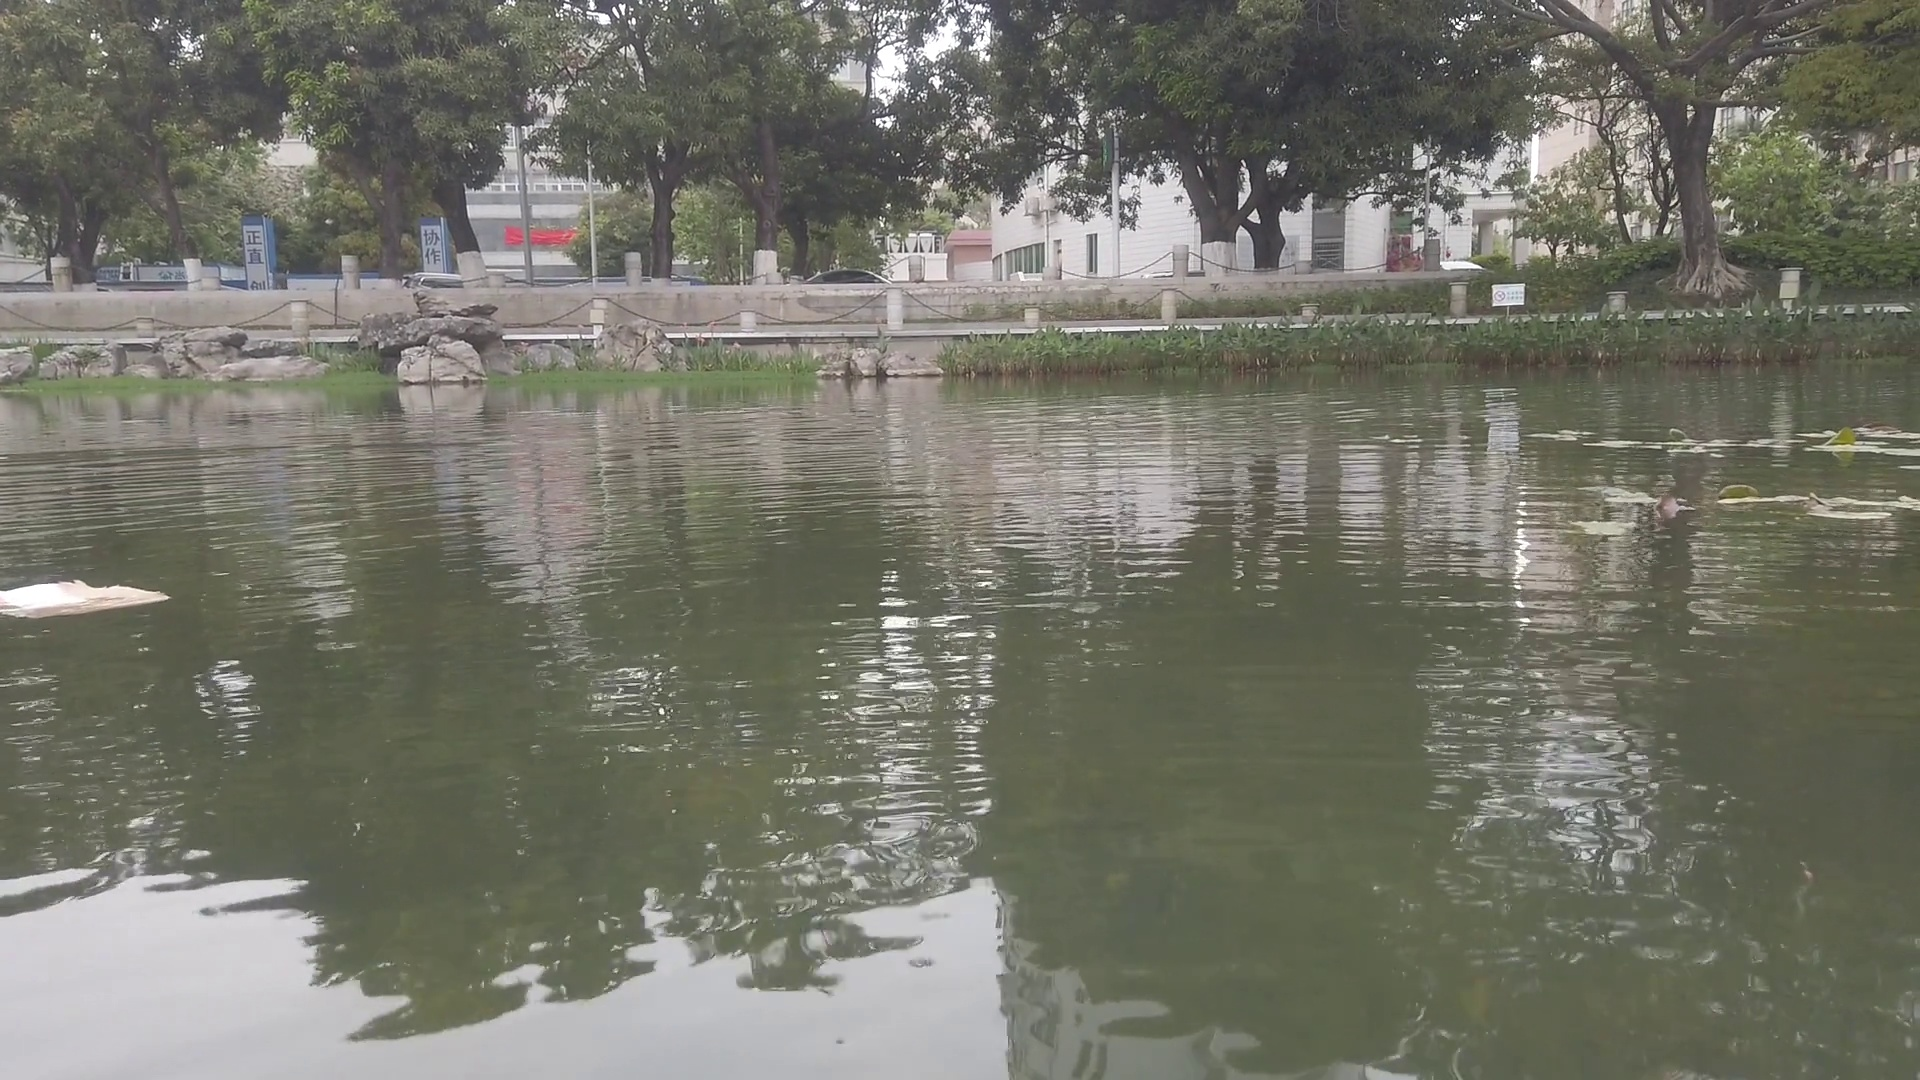paper: (9, 572, 167, 622)
